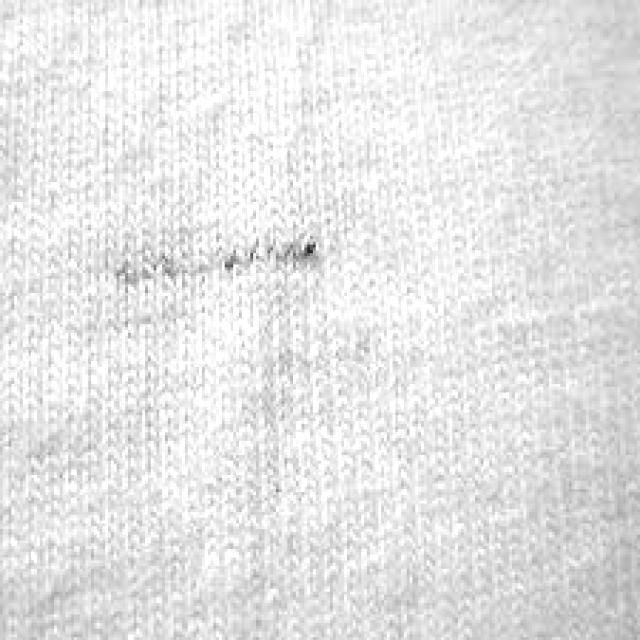Thread_other: (60, 158, 394, 404)
